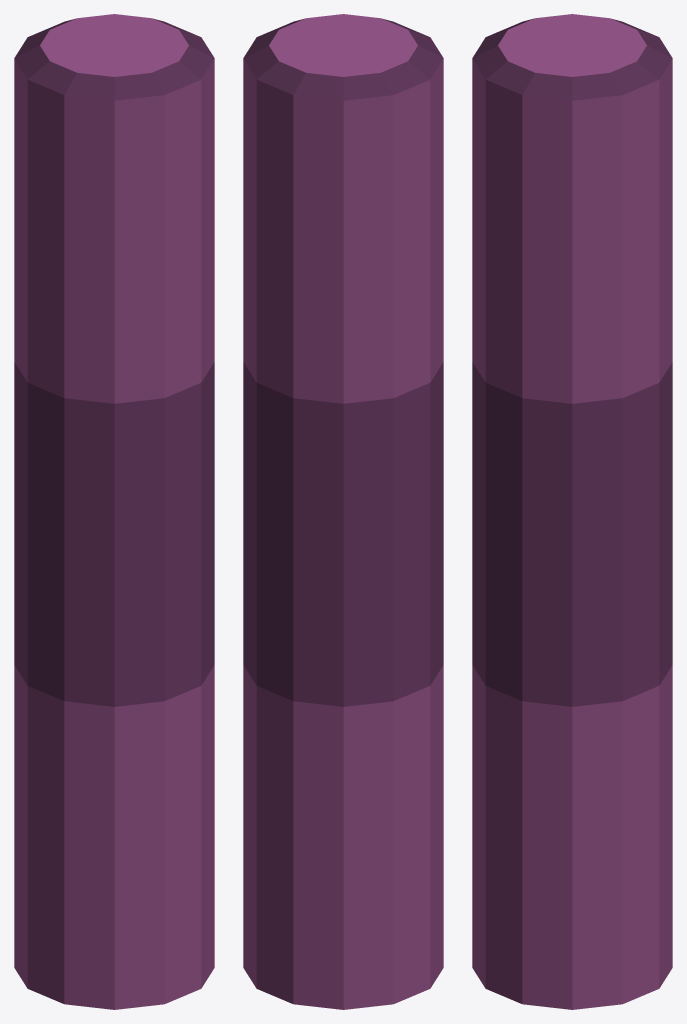
Rendered from Laumania_Firecracker_Sample01.fbx.
3 renders of one model, left to right at view 1: azimuth 30°, elevation 25°; view 2: azimuth 150°, elevation 25°; view 3: azimuth 270°, elevation 25°, orthographic.
Visible parts, largest first — view 1: Laumania_Firecracker_Sample01; view 2: Laumania_Firecracker_Sample01; view 3: Laumania_Firecracker_Sample01.
Boxes of the visible parts, <box> form: Laumania_Firecracker_Sample01: <box>14,14,214,1009</box>; Laumania_Firecracker_Sample01: <box>243,14,443,1009</box>; Laumania_Firecracker_Sample01: <box>472,14,672,1009</box>.
Size of the model in its own units: 0.04 by 0.2028 by 0.04.
